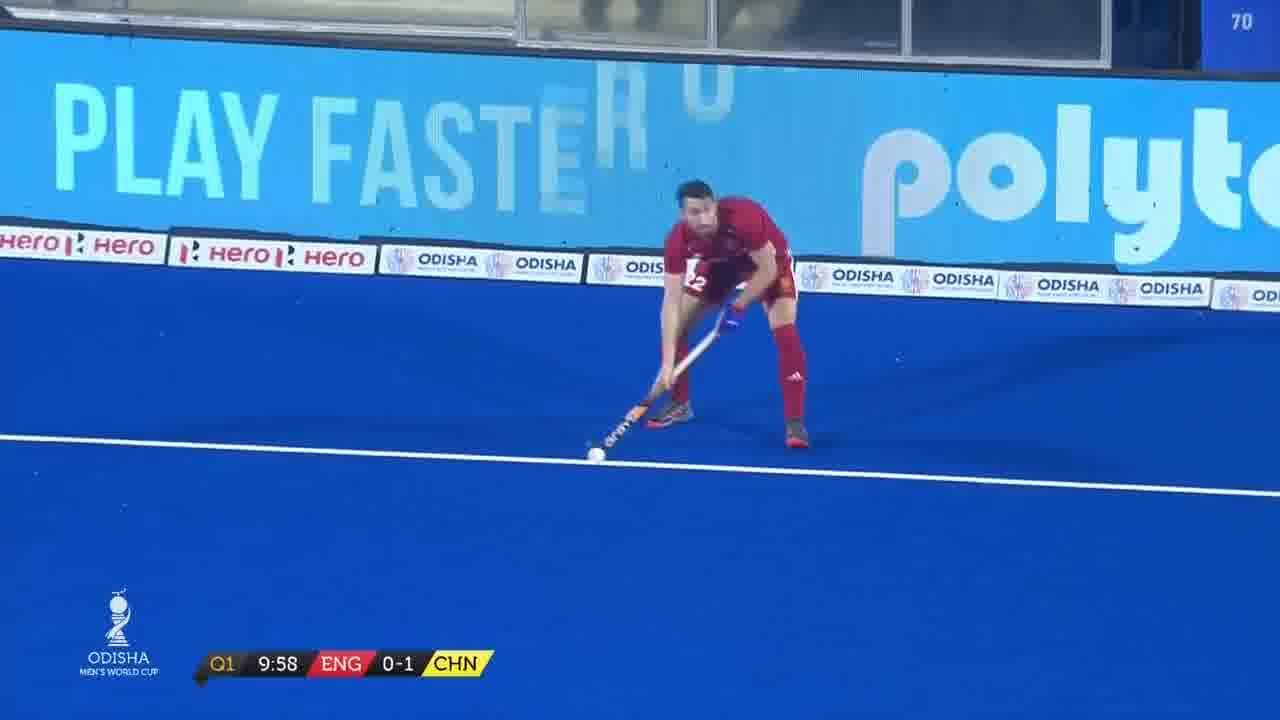ball: (582, 438, 608, 474)
